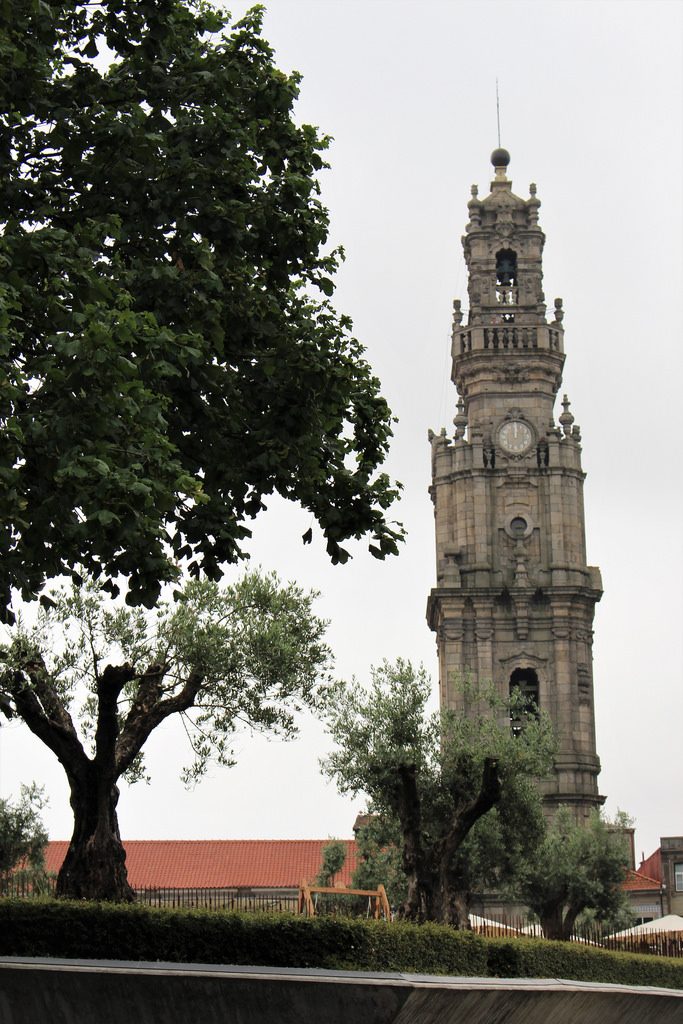clerigos: (426, 78, 607, 883)
